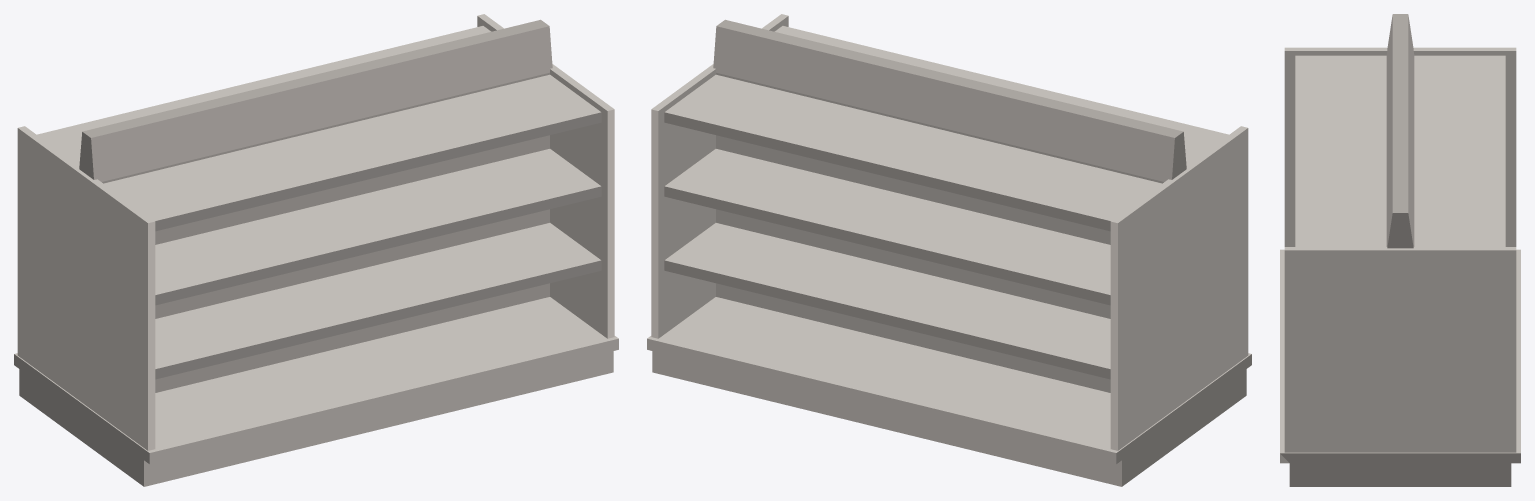
The model's file is ShelfIsleEmpty.glb.
The picture shows the model from 3 angles, left to right: view 1: azimuth 30°, elevation 25°; view 2: azimuth 150°, elevation 25°; view 3: azimuth 270°, elevation 25°; orthographic projection. The views are drawn at different scales.
Visible parts, largest first — view 1: SI_Prop_Shelf_Isle_Empty_01; view 2: SI_Prop_Shelf_Isle_Empty_01; view 3: SI_Prop_Shelf_Isle_Empty_01.
Boxes of the visible parts, x1,y1,x2,y2 form: SI_Prop_Shelf_Isle_Empty_01: (14,14,618,486); SI_Prop_Shelf_Isle_Empty_01: (647,14,1251,486); SI_Prop_Shelf_Isle_Empty_01: (1280,14,1520,486).
Size of the model in its own units: 0.0688 by 0.0428 by 0.0344.
Materials: 1 (1 with a texture image).
